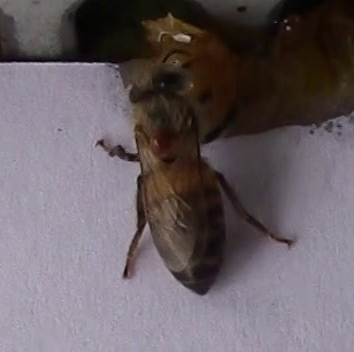Varroa destructor: (148, 127, 179, 158)
